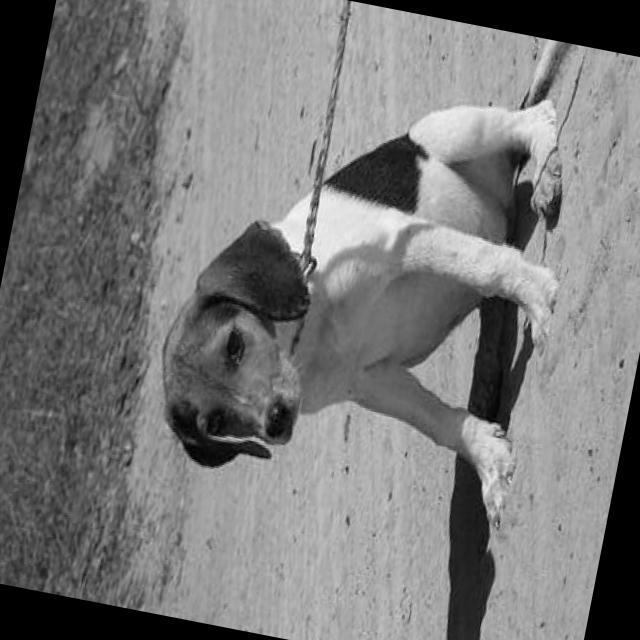sitting: (135, 32, 605, 556)
